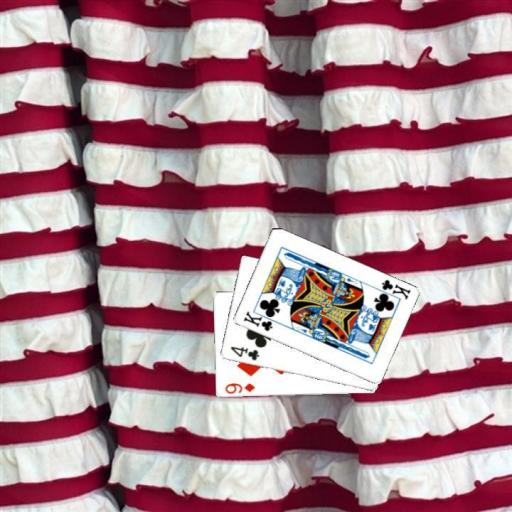4C: (227, 343, 260, 362)
9D: (222, 380, 256, 395)
KC: (241, 307, 280, 333), (372, 277, 412, 302)
